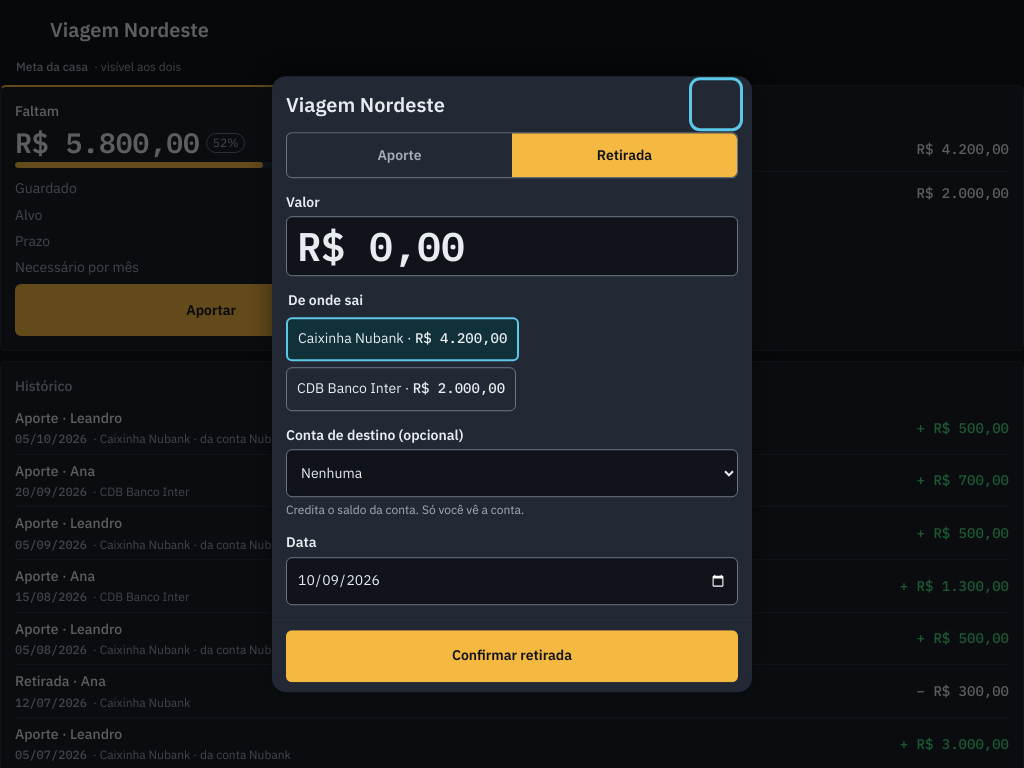
Test: T13 retirada › recusa do servidor por valor acima do guardado aparece no campo de valor
Click the radio button labelled "CDB Banco Inter · R$ 2.000,00" at (401, 389), box top-left (286, 367), bottom-right (516, 411)
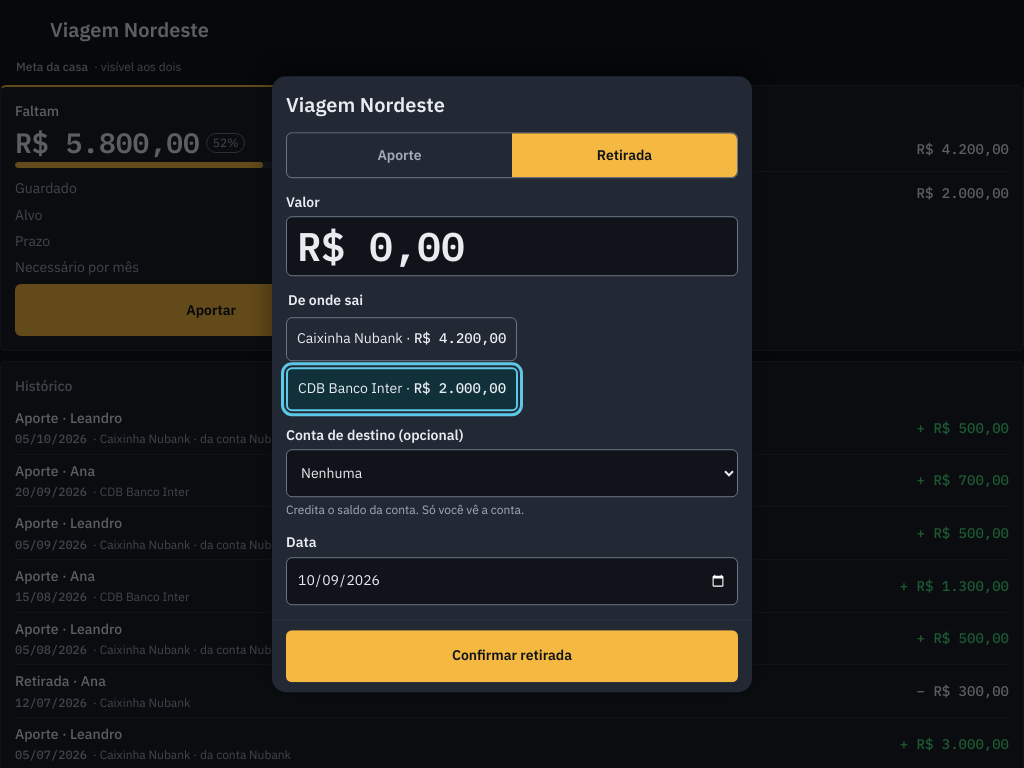
Type "250000" into the field labelled "Valor" at (512, 246), box top-left (286, 216), bottom-right (738, 276)
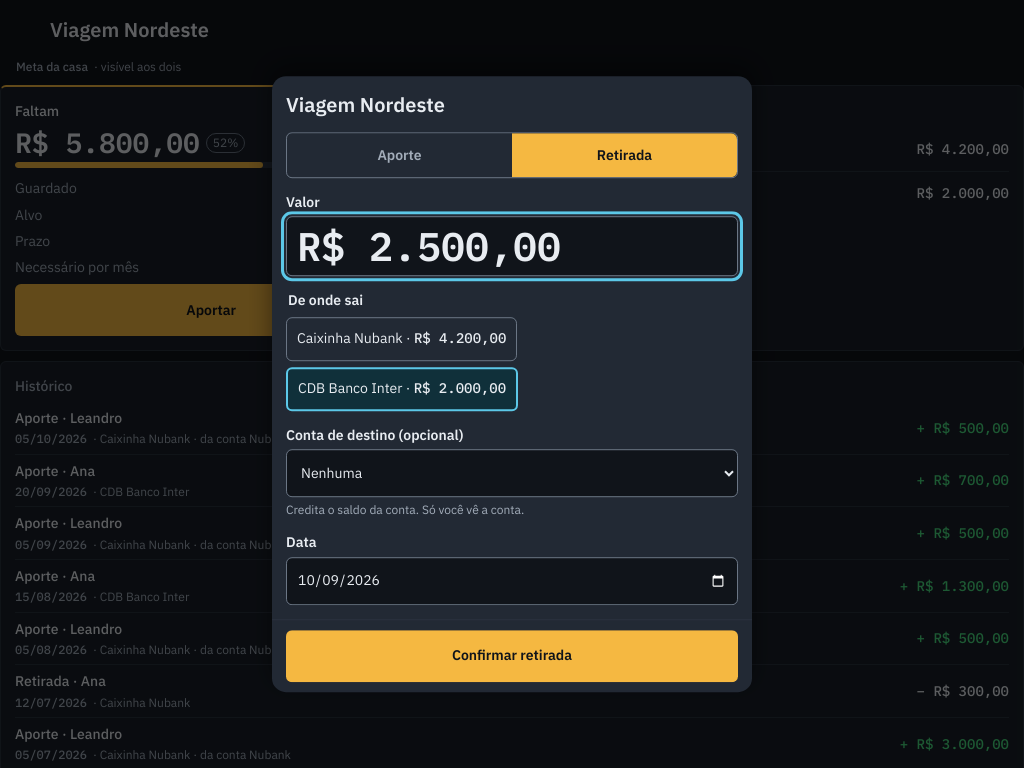
Click the button "Confirmar retirada" at (512, 656), box top-left (286, 630), bottom-right (738, 682)
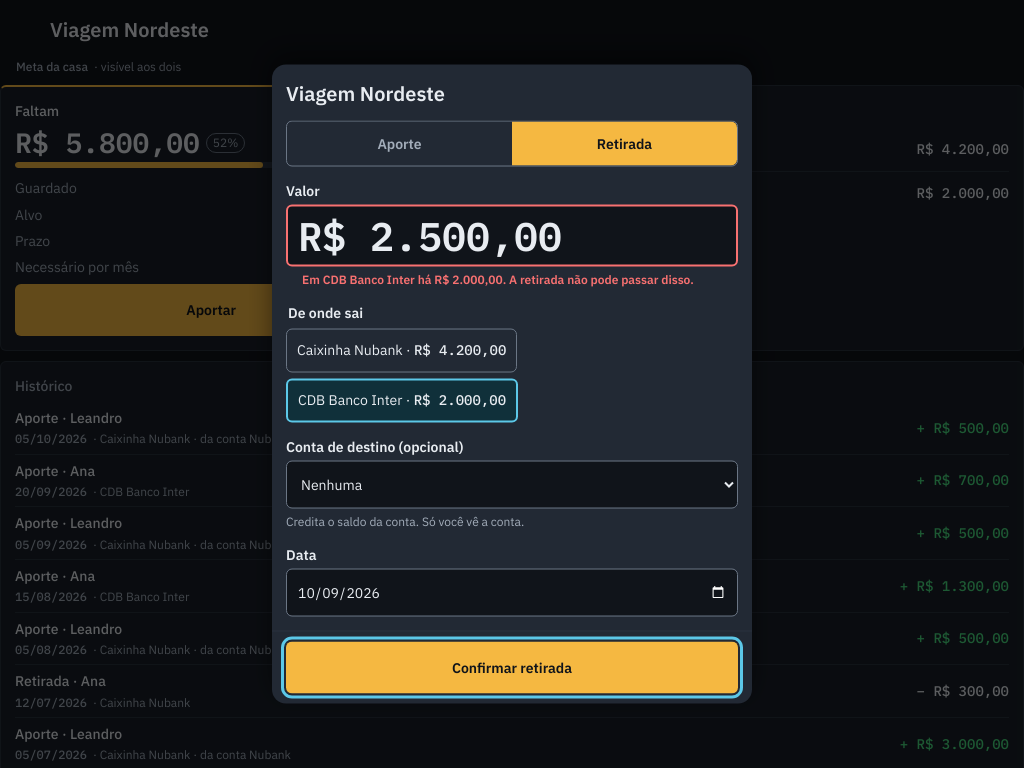
expect the text "Em CDB Banco Inter há R$ 2.000,00. A retirada não pode passar disso." is shown: met, box top-left (286, 271), bottom-right (738, 288)
